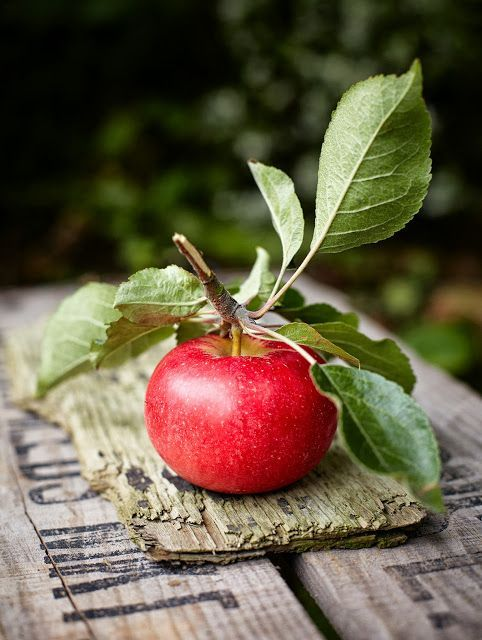apple: (141, 330, 340, 494)
